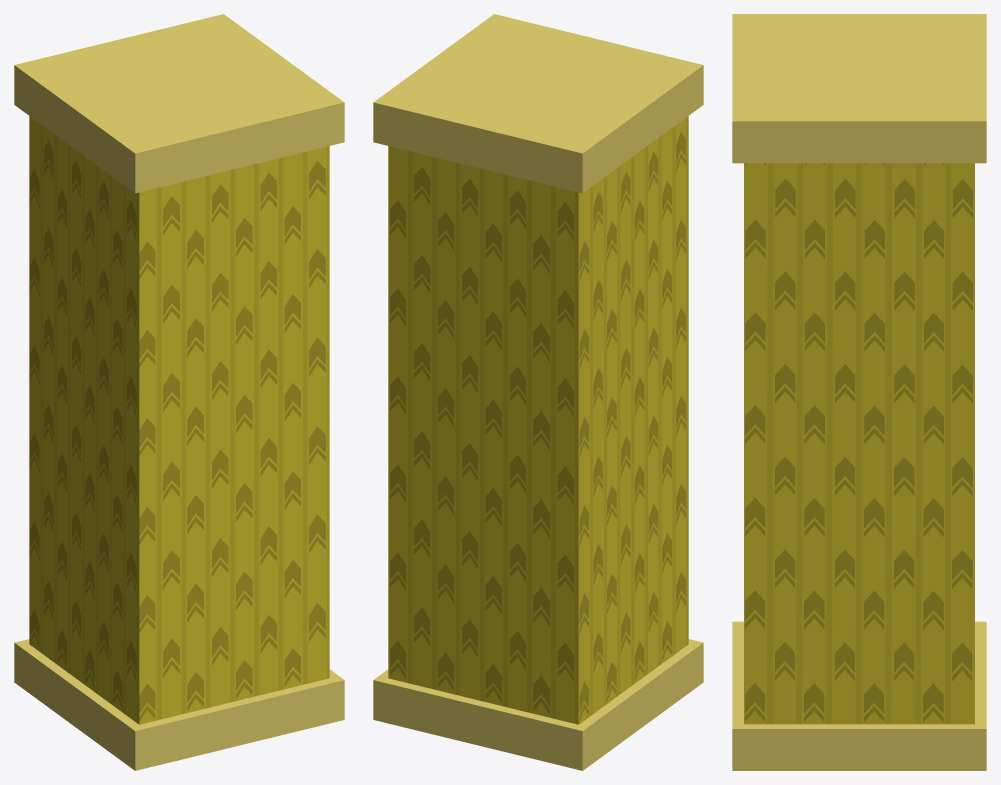
Rendered from pillar.fbx.
3 views of the same model, side by side, from view 1: azimuth 30°, elevation 25°; view 2: azimuth 150°, elevation 25°; view 3: azimuth 270°, elevation 25° (orthographic). The views are drawn at different scales.
Visible parts, largest first — view 1: Cube, 立方体.001, 立方体; view 2: Cube, 立方体.001, 立方体; view 3: Cube, 立方体.001, 立方体.
Part boxes in pixels (<box>): Cube: <box>29,116,329,724</box>; 立方体.001: <box>14,14,344,193</box>; 立方体: <box>14,639,344,770</box>; Cube: <box>388,116,688,724</box>; 立方体.001: <box>373,14,703,193</box>; 立方体: <box>373,639,703,770</box>; Cube: <box>744,163,974,724</box>; 立方体.001: <box>732,14,986,163</box>; 立方体: <box>732,621,986,770</box>.
Size of the model in its own units: 220 by 620 by 220.
